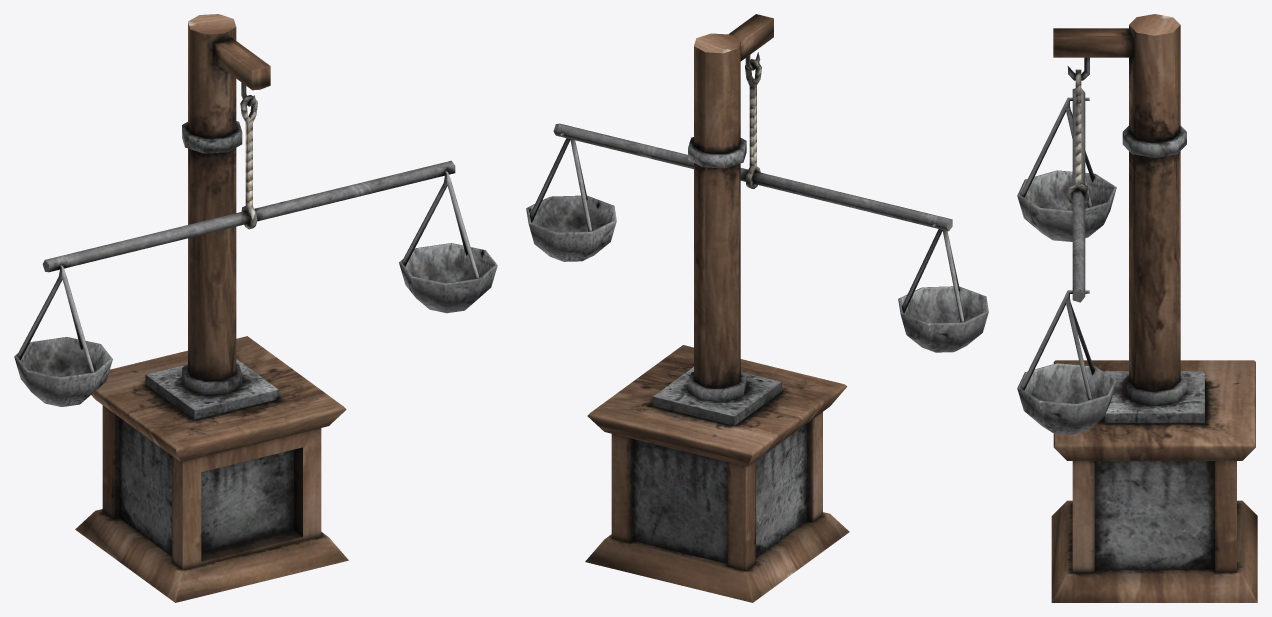
File: chem_scale.dae
3 renders of one model, left to right at view 1: azimuth 30°, elevation 25°; view 2: azimuth 150°, elevation 25°; view 3: azimuth 270°, elevation 25°, orthographic. The views are drawn at different scales.
Parts seen in each view (by area): view 1: polySurface18, polySurface17, polySurface16, polySurface7, polySurface5; view 2: polySurface18, polySurface16, polySurface17, polySurface7, polySurface5; view 3: polySurface18, polySurface17, polySurface16, polySurface7, polySurface5.
Boxes of the visible parts, box(x1,y1,x2,y2) form: polySurface18: box(75, 14, 348, 602); polySurface17: box(399, 171, 497, 313); polySurface16: box(14, 265, 112, 406); polySurface7: box(42, 160, 455, 272); polySurface5: box(240, 95, 257, 229); polySurface18: box(585, 14, 849, 602); polySurface16: box(898, 223, 988, 352); polySurface17: box(526, 132, 616, 261); polySurface7: box(553, 123, 952, 231); polySurface5: box(745, 59, 761, 188); polySurface18: box(1051, 14, 1257, 602); polySurface17: box(1017, 290, 1116, 434); polySurface16: box(1017, 97, 1116, 241); polySurface7: box(1072, 88, 1085, 302); polySurface5: box(1066, 69, 1089, 204).
Size of the model in its own units: 0.5651 by 0.5998 by 0.2446.
